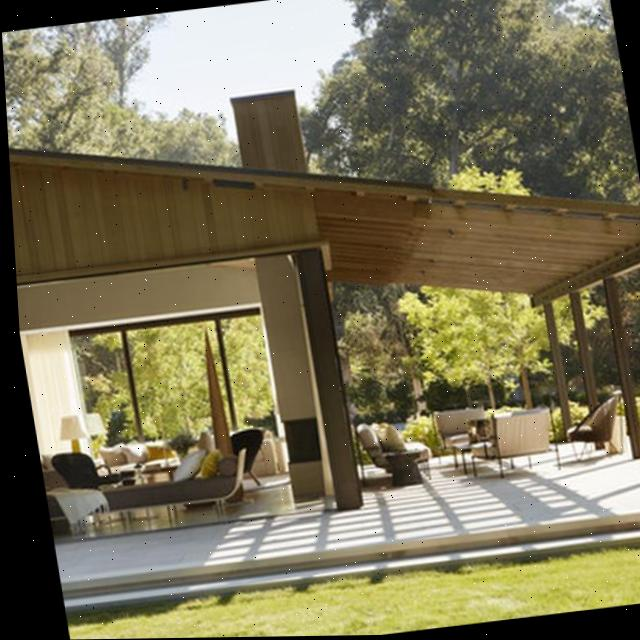building: (3, 47, 640, 575)
